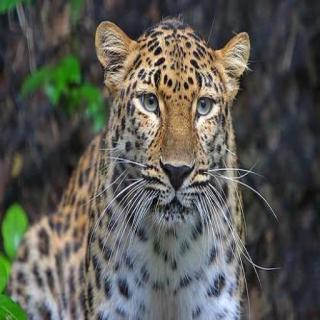Leopard: (32, 13, 253, 320)
